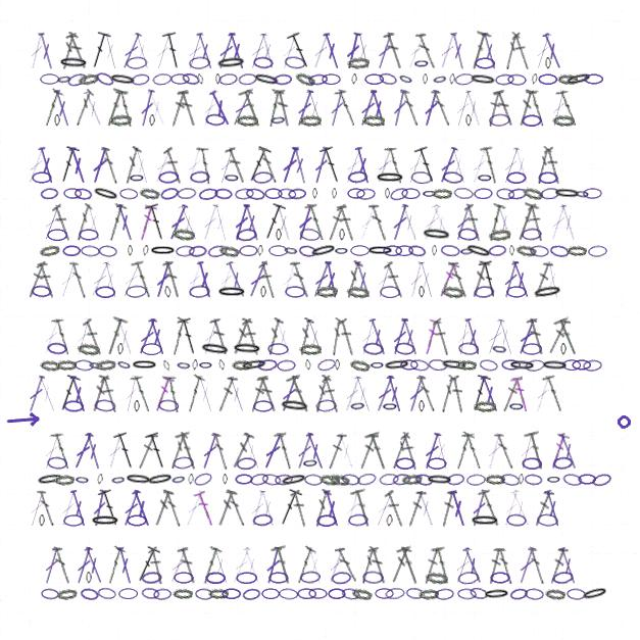chain: (89, 190, 118, 208), (454, 246, 483, 264), (521, 287, 552, 303), (195, 343, 226, 359), (553, 78, 581, 95), (303, 246, 331, 263), (569, 582, 597, 599), (211, 63, 242, 78), (412, 231, 443, 246), (273, 399, 304, 414), (247, 79, 275, 95), (274, 471, 302, 487), (235, 359, 263, 374), (35, 471, 63, 486), (143, 471, 171, 486), (106, 80, 134, 94), (459, 80, 487, 94), (57, 64, 87, 77), (227, 344, 257, 357), (288, 78, 310, 95), (375, 360, 403, 373), (431, 360, 459, 373), (367, 177, 397, 189), (212, 289, 242, 301), (88, 513, 118, 525), (460, 513, 490, 525), (92, 78, 113, 95), (542, 192, 569, 205), (122, 472, 149, 485), (189, 470, 209, 487), (65, 79, 86, 95), (579, 471, 600, 487), (278, 63, 300, 78), (511, 191, 533, 206), (498, 361, 525, 373), (530, 361, 557, 373), (417, 473, 444, 485), (473, 585, 500, 597), (478, 232, 501, 246), (339, 288, 362, 302), (432, 288, 455, 302), (75, 344, 98, 358), (416, 568, 439, 582), (381, 191, 401, 207), (76, 79, 97, 94), (38, 247, 59, 262), (349, 471, 370, 486), (402, 176, 424, 190), (448, 568, 470, 582), (177, 79, 197, 94), (370, 79, 390, 94), (156, 191, 176, 206), (310, 359, 330, 374), (244, 471, 264, 486), (459, 583, 479, 598), (146, 249, 173, 260), (359, 249, 386, 260), (128, 361, 155, 372), (247, 176, 268, 190), (433, 176, 454, 190), (231, 232, 252, 246), (293, 232, 314, 246), (214, 248, 235, 262), (464, 288, 485, 302), (342, 360, 363, 374), (231, 456, 252, 470), (322, 472, 343, 486), (138, 568, 159, 582), (324, 568, 345, 582), (541, 568, 562, 582), (55, 584, 76, 598), (344, 584, 365, 598), (123, 64, 145, 77), (340, 64, 362, 77), (107, 120, 129, 133), (169, 232, 191, 245), (309, 288, 331, 301), (92, 400, 114, 413), (194, 192, 214, 206), (240, 192, 260, 206), (497, 192, 517, 206), (203, 248, 223, 262), (538, 248, 558, 262), (401, 360, 421, 374), (514, 360, 534, 374), (256, 472, 276, 486), (490, 472, 510, 486), (551, 472, 571, 486), (185, 64, 206, 77), (479, 120, 500, 133), (340, 176, 361, 189), (136, 192, 157, 205), (448, 232, 469, 245), (505, 248, 526, 261), (30, 288, 51, 301), (123, 288, 144, 301), (185, 288, 206, 301), (355, 344, 376, 357), (386, 344, 407, 357), (93, 360, 114, 373), (309, 400, 330, 413), (169, 456, 190, 469), (541, 456, 562, 469), (393, 472, 414, 485), (247, 512, 268, 525), (526, 512, 547, 525), (355, 568, 376, 581), (128, 80, 147, 94), (72, 192, 91, 206), (292, 248, 311, 262), (399, 248, 418, 262), (469, 360, 488, 374), (334, 472, 353, 486), (406, 472, 425, 486), (78, 584, 97, 598), (237, 584, 256, 598), (334, 584, 353, 598), (499, 584, 518, 598), (231, 121, 253, 133), (293, 121, 315, 133), (355, 121, 377, 133), (541, 121, 563, 133), (293, 345, 315, 357), (464, 401, 486, 413), (248, 64, 268, 77), (149, 80, 169, 93), (445, 80, 465, 93), (201, 120, 221, 133), (155, 176, 175, 189), (186, 176, 206, 189), (173, 192, 193, 205), (444, 192, 464, 205), (529, 192, 549, 205), (511, 232, 531, 245), (431, 248, 451, 261), (46, 344, 66, 357), (449, 344, 469, 357), (252, 360, 272, 373), (419, 360, 439, 373), (155, 400, 175, 413), (46, 456, 66, 469), (371, 472, 391, 485), (341, 512, 361, 525), (496, 512, 516, 525), (294, 568, 314, 581), (377, 584, 397, 597), (389, 79, 406, 94), (113, 359, 130, 374), (138, 345, 159, 357), (262, 345, 283, 357), (231, 569, 252, 581), (214, 80, 233, 93), (233, 80, 252, 93), (39, 192, 58, 205), (478, 248, 497, 261), (384, 472, 403, 485), (437, 472, 456, 485), (95, 584, 114, 597), (138, 584, 157, 597), (397, 584, 416, 597), (465, 65, 485, 77), (511, 121, 531, 133), (31, 177, 51, 189), (496, 177, 516, 189), (527, 177, 547, 189), (46, 233, 66, 245), (77, 233, 97, 245), (93, 289, 113, 301), (279, 289, 299, 301), (372, 289, 392, 301), (496, 289, 516, 301), (511, 345, 531, 357), (39, 361, 59, 373), (62, 401, 82, 413), (248, 401, 268, 413), (387, 457, 407, 469), (418, 457, 438, 469), (511, 457, 531, 469), (53, 473, 73, 485), (313, 473, 333, 485), (62, 513, 82, 525), (124, 513, 144, 525), (310, 513, 330, 525), (170, 569, 190, 581), (201, 569, 221, 581), (263, 569, 283, 581), (480, 569, 500, 581), (410, 585, 430, 597), (534, 585, 554, 597), (481, 344, 498, 358), (302, 81, 321, 93), (485, 81, 504, 93), (497, 81, 516, 93), (230, 193, 249, 205), (349, 193, 368, 205), (79, 249, 98, 261), (96, 249, 115, 261), (172, 249, 191, 261), (184, 249, 203, 261), (519, 249, 538, 261), (576, 249, 595, 261), (73, 361, 92, 373), (271, 361, 290, 373), (571, 361, 590, 373), (457, 473, 476, 485), (513, 473, 532, 485), (273, 585, 292, 597), (426, 585, 445, 597), (448, 585, 467, 597), (514, 585, 533, 597), (555, 585, 574, 597), (264, 120, 281, 133), (342, 400, 359, 413), (546, 81, 566, 92), (423, 193, 443, 204), (555, 249, 575, 260), (55, 361, 75, 372), (227, 361, 247, 372), (447, 361, 467, 372), (475, 473, 495, 484), (169, 585, 189, 596), (204, 585, 224, 596), (268, 81, 286, 93), (117, 193, 135, 205), (210, 193, 228, 205), (272, 193, 290, 205), (282, 193, 300, 205), (486, 193, 504, 205), (269, 473, 287, 485), (298, 473, 316, 485), (40, 585, 58, 597), (150, 585, 168, 597), (191, 585, 209, 597), (39, 81, 58, 92), (167, 81, 186, 92), (315, 81, 334, 92), (357, 81, 376, 92), (527, 81, 546, 92), (572, 81, 591, 92), (393, 193, 412, 204), (464, 193, 483, 204), (571, 193, 590, 204), (234, 249, 253, 260), (263, 249, 282, 260), (343, 249, 362, 260), (375, 249, 394, 260), (491, 361, 510, 372), (560, 361, 579, 372), (116, 585, 135, 596), (217, 585, 236, 596), (291, 585, 310, 596), (302, 585, 321, 596), (367, 585, 386, 596), (55, 80, 71, 93), (423, 80, 439, 93), (277, 248, 293, 261), (296, 456, 312, 469), (167, 472, 183, 485), (62, 193, 80, 204), (259, 193, 277, 204), (340, 193, 358, 204), (61, 249, 79, 260), (387, 249, 405, 260), (392, 361, 410, 372), (551, 361, 569, 372), (230, 473, 248, 484), (566, 473, 584, 484), (256, 585, 274, 596), (321, 585, 339, 596), (405, 65, 421, 77), (126, 177, 142, 189), (219, 177, 235, 189), (467, 177, 483, 189), (86, 361, 102, 373), (172, 361, 188, 373), (374, 401, 390, 413), (498, 401, 514, 413), (108, 473, 124, 485), (563, 193, 578, 205), (450, 249, 465, 261), (73, 473, 88, 485), (413, 193, 428, 204), (327, 249, 342, 260), (194, 361, 209, 372), (362, 361, 377, 372), (535, 473, 550, 484), (159, 361, 168, 373), (161, 289, 168, 301), (378, 513, 385, 525), (193, 81, 200, 92), (520, 81, 527, 92), (139, 249, 146, 260), (214, 361, 221, 372), (534, 65, 540, 77), (53, 121, 59, 133), (146, 121, 152, 133), (456, 121, 462, 133), (270, 233, 276, 245), (332, 233, 338, 245), (255, 289, 261, 301), (410, 289, 416, 301), (115, 345, 121, 357), (549, 345, 555, 357), (131, 401, 137, 413), (410, 401, 416, 413), (38, 513, 44, 525), (84, 569, 90, 581), (344, 81, 350, 92), (440, 81, 446, 92), (252, 249, 258, 260), (188, 361, 194, 372), (299, 361, 305, 372), (95, 473, 101, 484), (184, 473, 190, 484), (211, 81, 216, 92), (414, 81, 419, 92), (306, 193, 311, 204), (325, 193, 330, 204), (377, 193, 382, 204), (125, 249, 130, 260), (423, 249, 428, 260), (499, 249, 504, 260), (328, 361, 333, 372), (218, 473, 223, 484), (508, 473, 513, 484)
double: (542, 319, 571, 359), (233, 95, 261, 135), (280, 375, 308, 415), (280, 39, 308, 78), (239, 151, 267, 190), (130, 543, 158, 582), (99, 95, 126, 135), (502, 207, 529, 247), (171, 431, 198, 471), (357, 431, 384, 471), (388, 543, 415, 583), (270, 487, 297, 526), (100, 319, 126, 359), (312, 151, 338, 190), (405, 151, 431, 190), (255, 207, 281, 246), (54, 375, 80, 414), (110, 431, 136, 470), (141, 431, 167, 470), (95, 487, 121, 526), (457, 39, 482, 79), (343, 487, 368, 527), (203, 96, 229, 134), (224, 96, 250, 134), (85, 264, 111, 302), (224, 432, 250, 470), (85, 39, 110, 78), (327, 95, 352, 134), (544, 95, 569, 134), (141, 207, 166, 246), (513, 431, 538, 470), (467, 487, 492, 526), (193, 543, 218, 582), (265, 543, 290, 582), (286, 543, 311, 582), (64, 40, 89, 78), (116, 40, 141, 78), (529, 40, 554, 78), (79, 96, 104, 134), (162, 208, 187, 246), (172, 208, 197, 246), (420, 208, 445, 246), (116, 264, 141, 302), (219, 264, 244, 302), (240, 264, 265, 302), (426, 264, 451, 302), (69, 432, 94, 470), (255, 432, 280, 470), (178, 488, 203, 526), (364, 488, 389, 526), (498, 488, 523, 526), (224, 544, 249, 582), (451, 544, 476, 582), (39, 95, 63, 134), (55, 151, 79, 190), (101, 207, 125, 246), (297, 207, 321, 246), (127, 263, 151, 302), (173, 319, 197, 358), (127, 375, 151, 414), (458, 375, 482, 414), (530, 375, 554, 414), (442, 431, 466, 470), (396, 40, 420, 78), (142, 96, 166, 134), (483, 96, 507, 134), (148, 152, 172, 190), (220, 152, 244, 190), (334, 152, 358, 190), (427, 152, 451, 190), (411, 208, 435, 246), (303, 264, 327, 302), (132, 320, 156, 358), (473, 320, 497, 358), (504, 320, 528, 358), (34, 376, 58, 414), (251, 376, 275, 414), (365, 376, 389, 414), (468, 376, 492, 414), (297, 432, 321, 470), (545, 432, 569, 470), (127, 488, 151, 526), (189, 488, 213, 526), (80, 544, 104, 582), (163, 544, 187, 582), (235, 544, 259, 582), (380, 544, 404, 582), (158, 39, 181, 78), (473, 207, 496, 246), (468, 263, 491, 302), (179, 375, 202, 414), (49, 431, 72, 470), (452, 431, 475, 470), (101, 543, 124, 582), (535, 320, 559, 357), (210, 40, 233, 78), (241, 40, 264, 78), (272, 40, 295, 78), (303, 40, 326, 78), (375, 40, 398, 78), (427, 40, 450, 78), (173, 96, 196, 134), (287, 96, 310, 134), (297, 96, 320, 134), (349, 96, 372, 134), (24, 152, 47, 190), (65, 152, 88, 190), (396, 152, 419, 190), (489, 152, 512, 190), (39, 208, 62, 246), (111, 208, 134, 246), (349, 208, 372, 246), (390, 208, 413, 246), (483, 208, 506, 246), (55, 264, 78, 302), (375, 264, 398, 302), (499, 264, 522, 302), (39, 320, 62, 358), (80, 320, 103, 358), (111, 320, 134, 358), (225, 320, 248, 358), (266, 320, 289, 358), (297, 320, 320, 358), (359, 320, 382, 358), (24, 376, 47, 414), (148, 376, 171, 414), (220, 376, 243, 414), (272, 376, 295, 414), (334, 376, 357, 414), (344, 376, 367, 414), (39, 432, 62, 470), (194, 432, 217, 470), (235, 432, 258, 470), (287, 432, 310, 470), (328, 432, 351, 470), (117, 488, 140, 526), (148, 488, 171, 526), (210, 488, 233, 526), (406, 488, 429, 526), (173, 544, 196, 582), (318, 544, 341, 582), (442, 544, 465, 582), (545, 544, 568, 582), (257, 95, 279, 134), (515, 95, 537, 134), (376, 151, 398, 190), (50, 319, 72, 358), (164, 319, 186, 358), (267, 431, 289, 470), (328, 544, 351, 581), (128, 40, 150, 78), (149, 40, 171, 78), (180, 40, 202, 78), (190, 40, 212, 78), (221, 40, 243, 78), (314, 40, 336, 78), (366, 40, 388, 78), (500, 40, 522, 78), (521, 40, 543, 78), (50, 96, 72, 134), (195, 96, 217, 134), (360, 96, 382, 134), (453, 96, 475, 134), (87, 152, 109, 190), (159, 152, 181, 190), (211, 152, 233, 190), (273, 152, 295, 190), (366, 152, 388, 190), (438, 152, 460, 190), (459, 152, 481, 190), (500, 152, 522, 190), (50, 208, 72, 246), (195, 208, 217, 246), (236, 208, 258, 246), (267, 208, 289, 246), (288, 208, 310, 246), (381, 208, 403, 246), (443, 208, 465, 246), (536, 208, 558, 246), (546, 208, 568, 246), (25, 264, 47, 302), (149, 264, 171, 302), (180, 264, 202, 302), (211, 264, 233, 302), (345, 264, 367, 302), (459, 264, 481, 302), (143, 320, 165, 358), (195, 320, 217, 358), (205, 320, 227, 358), (391, 320, 413, 358), (484, 320, 506, 358), (515, 320, 537, 358), (66, 376, 88, 414), (190, 376, 212, 414), (211, 376, 233, 414), (397, 376, 419, 414), (490, 376, 512, 414), (521, 376, 543, 414), (102, 432, 124, 470), (133, 432, 155, 470), (412, 432, 434, 470), (536, 432, 558, 470), (25, 488, 47, 526), (56, 488, 78, 526), (66, 488, 88, 526), (314, 488, 336, 526), (376, 488, 398, 526), (438, 488, 460, 526), (490, 488, 512, 526), (521, 488, 543, 526), (71, 544, 93, 582), (205, 544, 227, 582), (360, 544, 382, 582), (505, 544, 527, 582), (469, 151, 490, 190), (422, 543, 443, 582), (71, 96, 93, 133), (381, 432, 403, 469), (35, 40, 56, 78), (56, 40, 77, 78), (252, 40, 273, 78), (407, 40, 428, 78), (469, 40, 490, 78), (412, 96, 433, 134), (443, 96, 464, 134), (505, 96, 526, 134), (35, 152, 56, 190), (118, 152, 139, 190), (128, 152, 149, 190), (180, 152, 201, 190), (304, 152, 325, 190), (345, 152, 366, 190), (81, 208, 102, 246), (133, 208, 154, 246), (226, 208, 247, 246), (319, 208, 340, 246), (329, 208, 350, 246), (35, 264, 56, 302), (159, 264, 180, 302), (190, 264, 211, 302), (252, 264, 273, 302), (273, 264, 294, 302), (335, 264, 356, 302), (366, 264, 387, 302), (407, 264, 428, 302), (490, 264, 511, 302), (521, 264, 542, 302), (71, 320, 92, 358), (236, 320, 257, 358), (350, 320, 371, 358), (381, 320, 402, 358), (412, 320, 433, 358), (453, 320, 474, 358), (87, 376, 108, 414), (97, 376, 118, 414), (304, 376, 325, 414), (314, 376, 335, 414), (376, 376, 397, 414), (500, 376, 521, 414), (81, 432, 102, 470), (319, 432, 340, 470), (350, 432, 371, 470), (391, 432, 412, 470), (474, 432, 495, 470), (242, 488, 263, 526), (252, 488, 273, 526), (304, 488, 325, 526), (335, 488, 356, 526), (397, 488, 418, 526), (459, 488, 480, 526), (531, 488, 552, 526), (40, 544, 61, 582), (112, 544, 133, 582), (257, 544, 278, 582), (298, 544, 319, 582), (536, 544, 557, 582), (422, 96, 443, 133), (164, 432, 185, 469), (484, 432, 505, 469), (221, 488, 242, 525), (26, 40, 46, 78), (98, 40, 118, 78), (336, 40, 356, 78), (346, 40, 366, 78), (439, 40, 459, 78), (113, 96, 133, 134), (134, 96, 154, 134), (165, 96, 185, 134), (268, 96, 288, 134), (320, 96, 340, 134), (537, 96, 557, 134), (284, 152, 304, 190), (532, 152, 552, 190), (206, 208, 226, 246), (454, 208, 474, 246), (98, 264, 118, 302), (284, 264, 304, 302), (398, 264, 418, 302), (439, 264, 459, 302), (258, 320, 278, 358), (330, 320, 350, 358), (423, 320, 443, 358), (243, 376, 263, 414), (506, 432, 526, 470), (413, 544, 433, 582), (392, 96, 412, 133), (253, 152, 273, 189), (408, 376, 428, 413), (382, 96, 401, 134), (361, 208, 380, 246), (516, 208, 535, 246), (532, 264, 551, 302), (289, 320, 308, 358), (119, 376, 138, 414), (160, 376, 179, 414), (429, 376, 448, 414), (423, 432, 442, 470), (88, 488, 107, 526), (160, 488, 179, 526), (284, 488, 303, 526), (51, 544, 70, 582), (144, 544, 163, 582), (72, 208, 91, 245), (36, 488, 55, 525), (351, 544, 370, 581), (492, 40, 510, 78), (99, 152, 117, 190), (192, 152, 210, 190), (523, 152, 541, 190), (68, 264, 86, 302), (316, 264, 334, 302), (445, 320, 463, 358), (207, 432, 225, 470), (430, 488, 448, 526), (476, 544, 494, 582), (486, 544, 504, 582), (517, 544, 535, 582), (476, 96, 493, 134), (440, 376, 457, 414), (322, 320, 337, 358)
noise: (5, 412, 41, 428), (603, 414, 619, 430)
